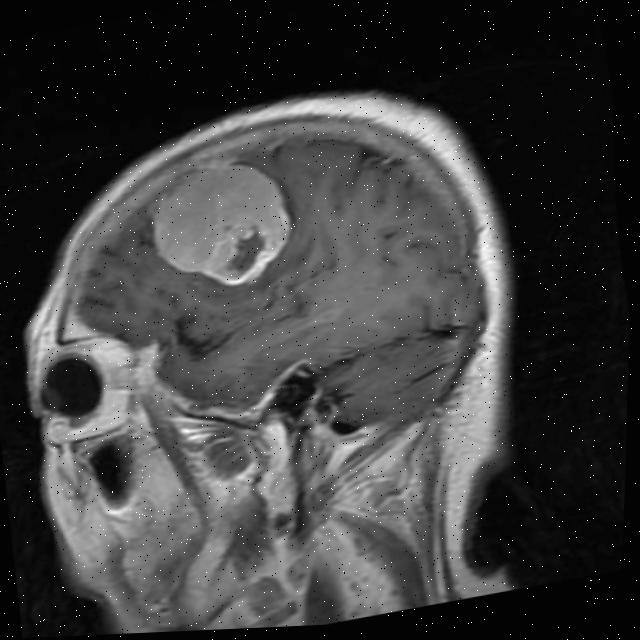Meningioma: (143, 151, 301, 302)
